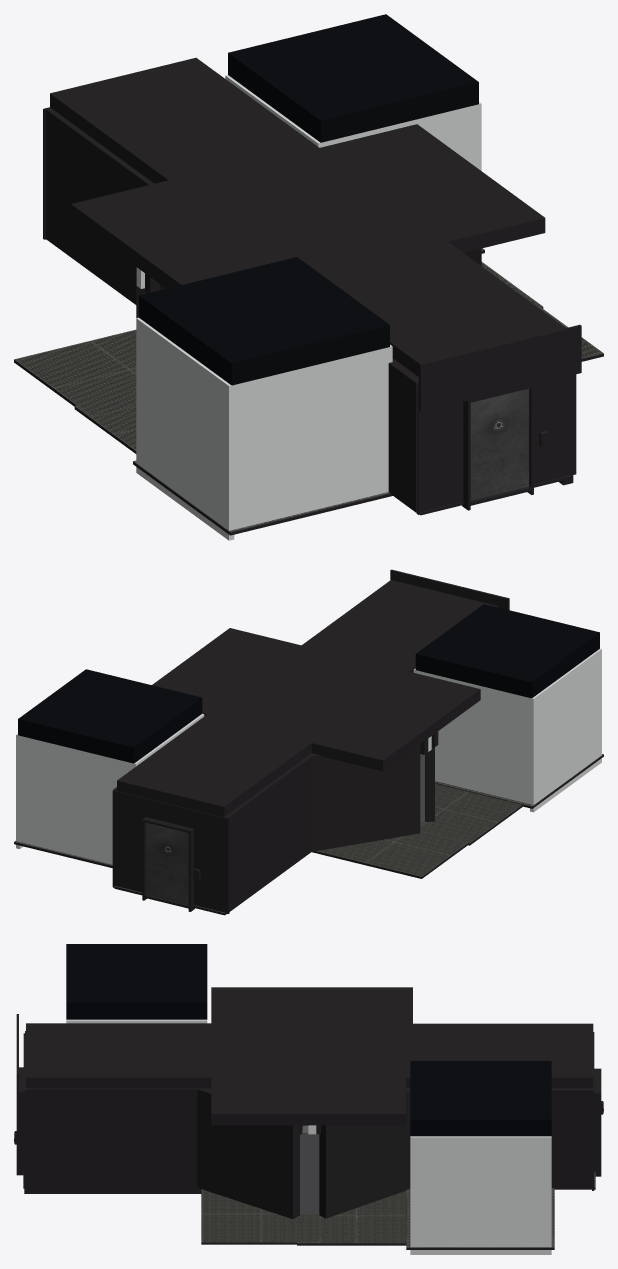
Rendered from Maintenance Tunnel Elevator.obj.
3 renders of one model, top to bottom at view 1: azimuth 30°, elevation 25°; view 2: azimuth 150°, elevation 25°; view 3: azimuth 270°, elevation 25°, orthographic. The views are drawn at different scales.
Visible parts, largest first — view 1: Part18, Part146, Part156, Part175, Part159, Part19, Part24, Part17, Part32, Door11, Part3, Part31 (+8 smaller); view 2: Part18, Part156, Part175, Part165, Part22, Part24, Part162, Part17, Part159, Part19, Part4, Door2 (+11 smaller); view 3: Part18, Part28, Part178, Part156, Part175, Part19, Part21, Part11, Part24, Part12, Part130, Part42 (+11 smaller).
Boxes of the visible parts, <box> form: Part18: <box>50,57,565,376</box>; Part146: <box>231,347,389,529</box>; Part156: <box>139,257,389,385</box>; Part175: <box>228,14,478,142</box>; Part159: <box>136,317,234,540</box>; Part19: <box>318,124,545,252</box>; Part24: <box>71,180,278,288</box>; Part17: <box>44,107,153,304</box>; Part32: <box>419,324,581,412</box>; Door11: <box>470,388,529,500</box>; Part3: <box>416,384,463,514</box>; Part31: <box>534,374,576,484</box>; Part18: <box>117,580,498,817</box>; Part156: <box>415,604,599,698</box>; Part175: <box>18,669,202,763</box>; Part165: <box>18,735,133,864</box>; Part22: <box>312,744,420,851</box>; Part24: <box>311,671,480,771</box>; Part162: <box>416,670,531,804</box>; Part17: <box>224,753,314,911</box>; Part159: <box>530,648,601,812</box>; Part19: <box>152,628,300,716</box>; Part4: <box>194,810,229,913</box>; Door2: <box>146,822,188,904</box>; Part18: <box>26,1023,593,1088</box>; Part28: <box>24,1088,204,1193</box>; Part178: <box>410,1136,551,1254</box>; Part156: <box>66,944,207,1019</box>; Part175: <box>410,1061,551,1136</box>; Part19: <box>211,1077,405,1125</box>; Part21: <box>197,1088,299,1218</box>; Part11: <box>319,1090,410,1218</box>; Part24: <box>211,987,412,1023</box>; Part12: <box>551,1088,592,1188</box>; Part130: <box>201,1214,260,1242</box>; Part42: <box>261,1214,320,1242</box>.
Bounding box in the file's own units: 36.43 × 12.8 × 51.
Materials: 14 (6 with a texture image).
